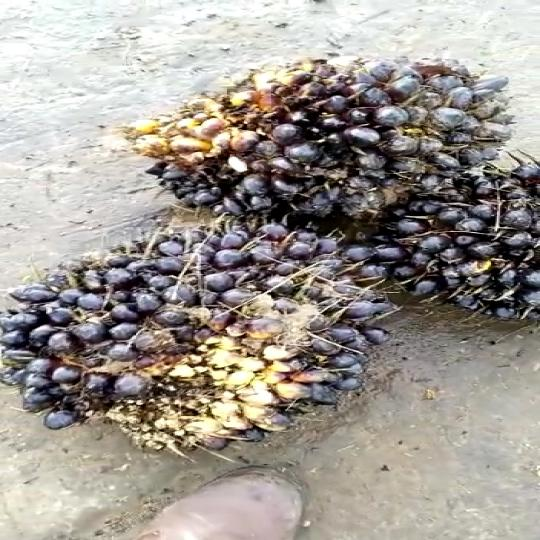mentah: (28, 218, 410, 448), (130, 48, 540, 222)
